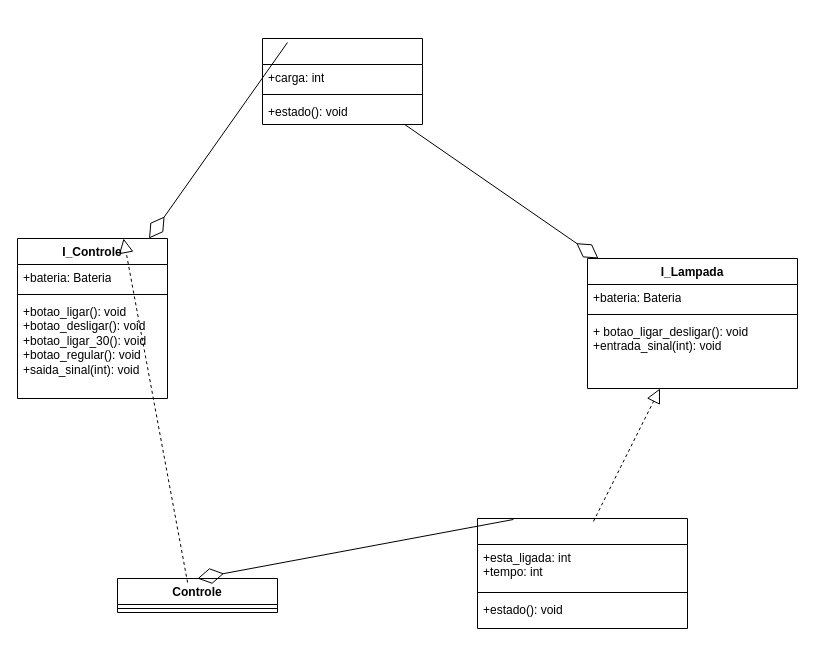
Image size: 815x649. Some labels were removed from this diagram. The shapes that lost their labels are listed below. From the top down, each one's box as (x1, y1, x2, y2) in pixels, then its label:
(262, 38, 422, 124): Bateria
(476, 518, 688, 628): Lampada
